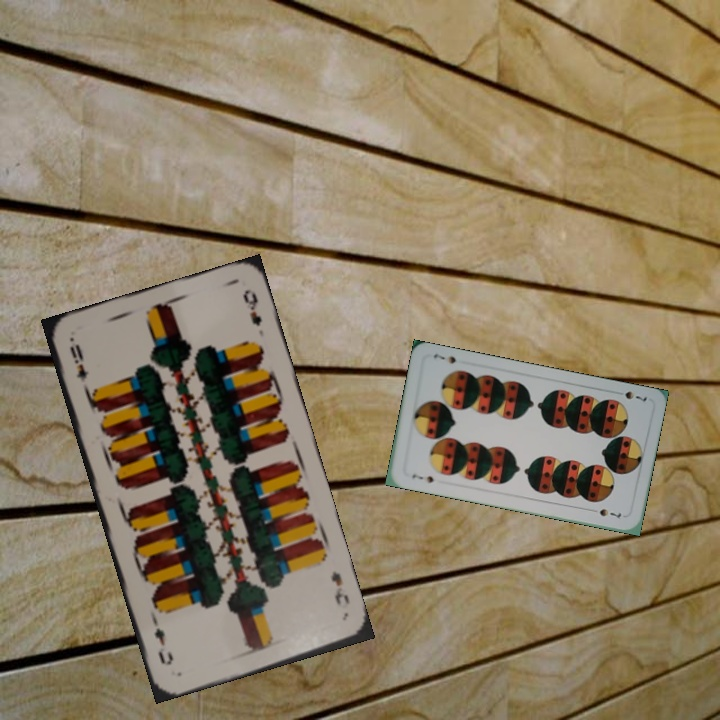E9: (66, 340, 91, 385), (327, 567, 352, 608)
S7: (611, 387, 650, 404), (408, 470, 439, 485)
